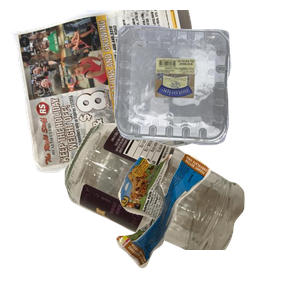glass: (62, 120, 300, 300)
paper: (10, 10, 210, 175)
plastic: (112, 22, 300, 160)
trash: (114, 151, 300, 300)
